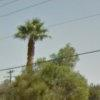Palm tree: (11, 14, 51, 72)
